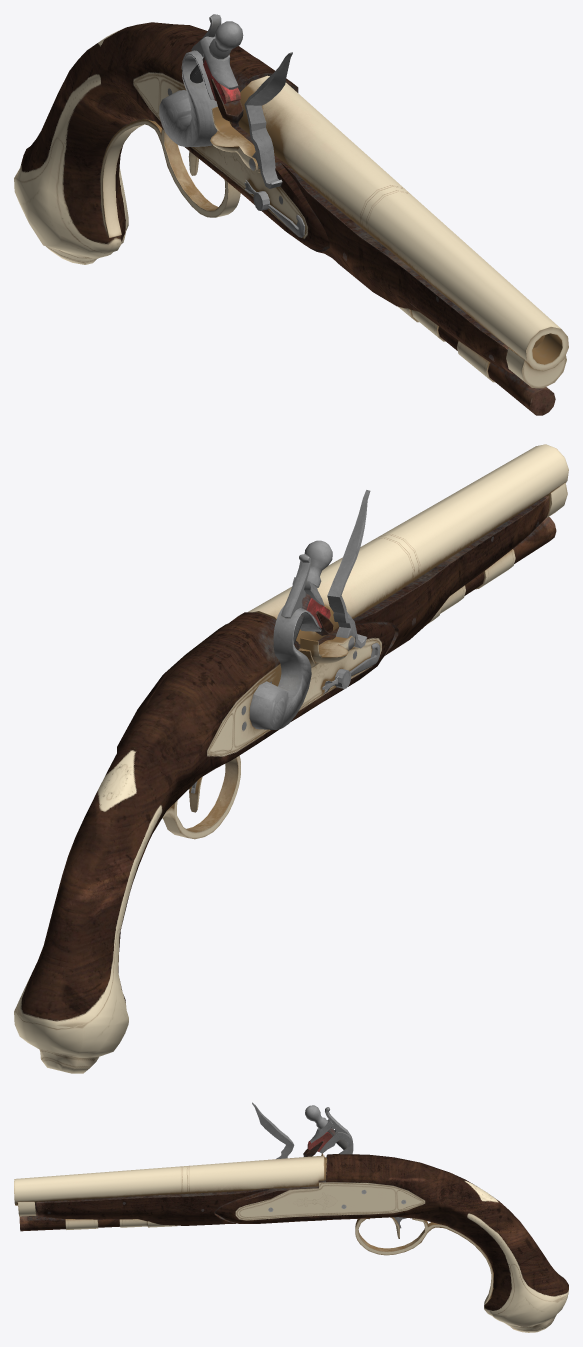
3 views of the same model, one above another, from view 1: azimuth 30°, elevation 25°; view 2: azimuth 150°, elevation 25°; view 3: azimuth 270°, elevation 25° (orthographic). The views are drawn at different scales.
Visible parts, largest first — view 1: SM_Musket_LP; view 2: SM_Musket_LP; view 3: SM_Musket_LP.
Part boxes in pixels (x1=…): SM_Musket_LP: x1=14, y1=14, x2=568, y2=415; SM_Musket_LP: x1=14, y1=444, x2=568, y2=1073; SM_Musket_LP: x1=14, y1=1102, x2=568, y2=1332.
Bounding box in the file's own units: 4.38 × 15.19 × 35.21.
Materials: 1 (1 with a texture image).
